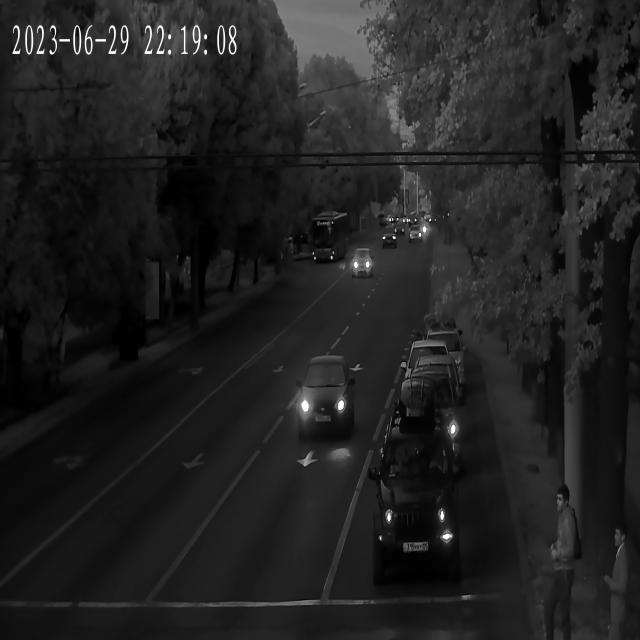Bus: (310, 208, 352, 263)
Car: (373, 404, 465, 600), (385, 372, 463, 475), (294, 353, 356, 439), (402, 363, 466, 423), (401, 339, 458, 391), (422, 331, 468, 374), (349, 251, 374, 276), (381, 230, 397, 250)
